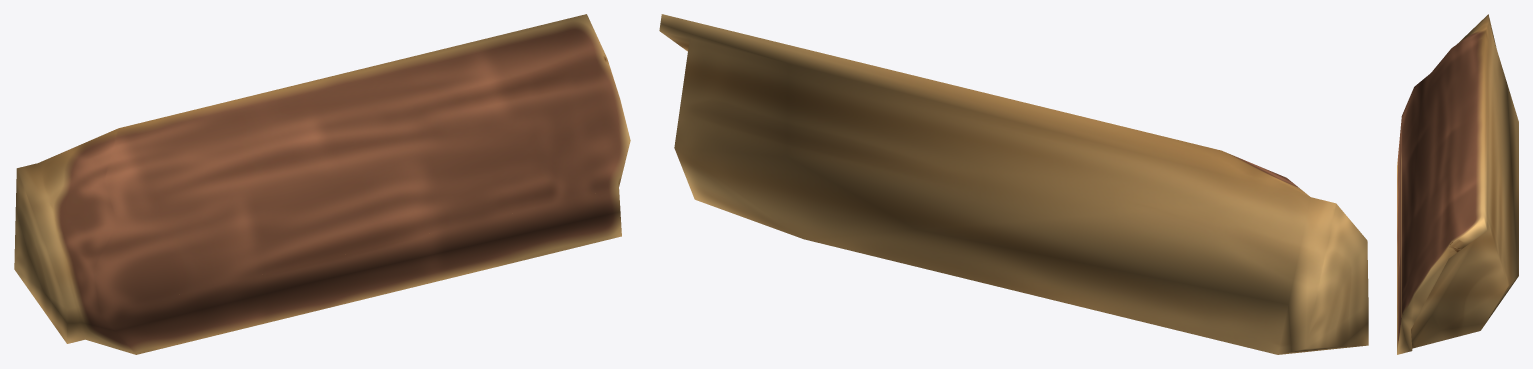
File: Firewood_D.fbx
3 views of the same model, side by side, from view 1: azimuth 30°, elevation 25°; view 2: azimuth 150°, elevation 25°; view 3: azimuth 270°, elevation 25° (orthographic). The views are drawn at different scales.
Visible parts, largest first — view 1: U_Firewood_D; view 2: U_Firewood_D; view 3: U_Firewood_D.
Part boxes in pixels (bbox=[...]): U_Firewood_D: bbox=[14, 14, 630, 354]; U_Firewood_D: bbox=[659, 14, 1368, 354]; U_Firewood_D: bbox=[1397, 14, 1518, 354].
Bounding box in the file's own units: 132 × 39.46 × 30.68.
1 material, 1 textured.
